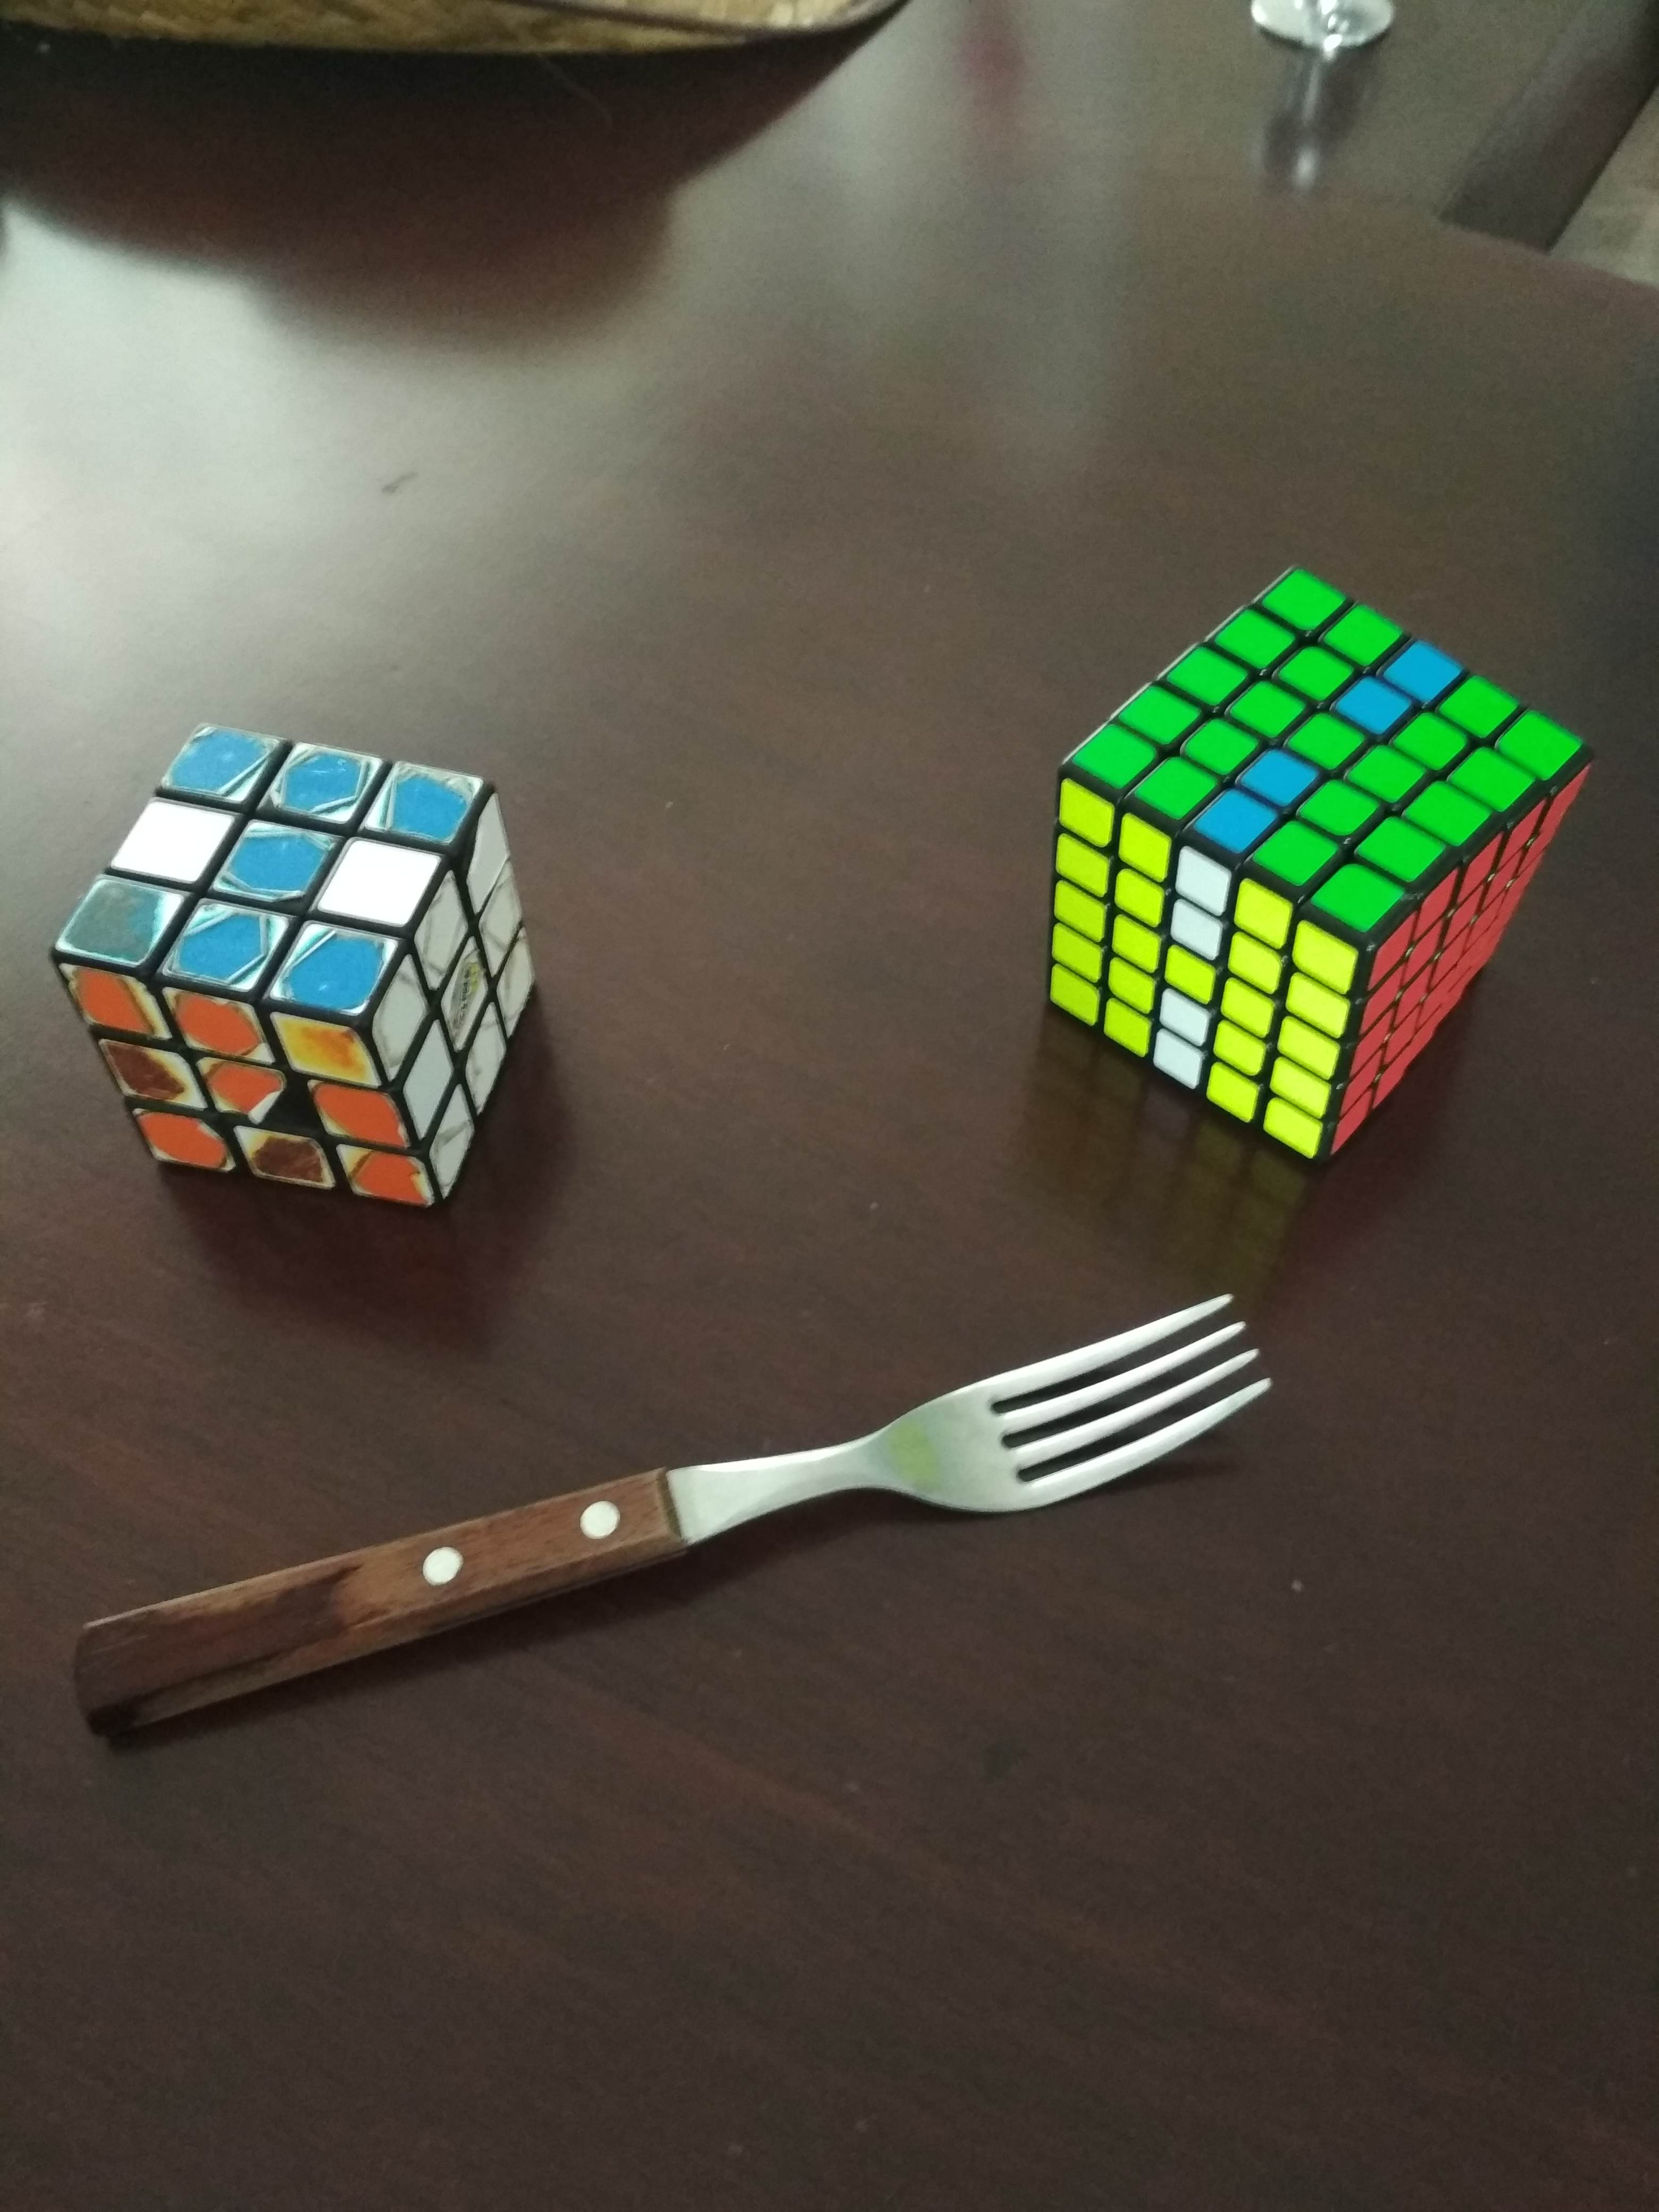fork: (61, 1270, 1286, 1764)
rubik_cube: (1014, 540, 1610, 1193), (35, 702, 572, 1235)
